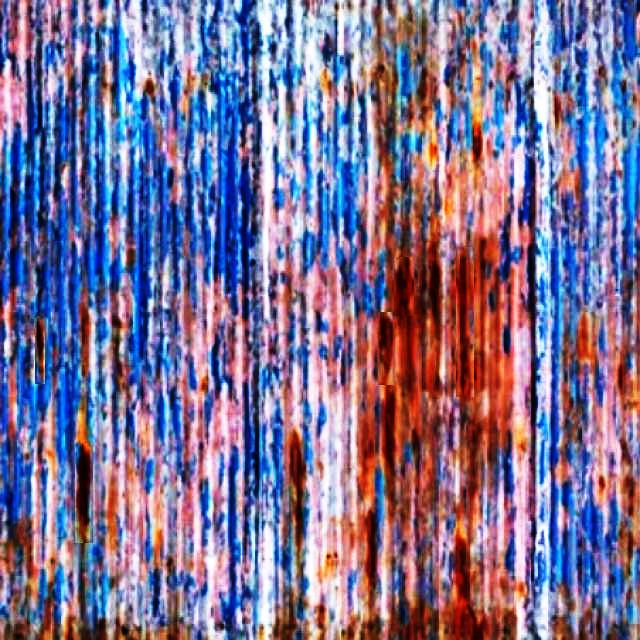Corrosion: (287, 431, 307, 566), (457, 253, 472, 398), (74, 442, 92, 544), (395, 257, 415, 318), (365, 512, 383, 579), (455, 600, 483, 640), (379, 313, 394, 386), (383, 386, 397, 464), (456, 537, 471, 609), (33, 315, 47, 385), (78, 303, 91, 358), (473, 119, 484, 160)
